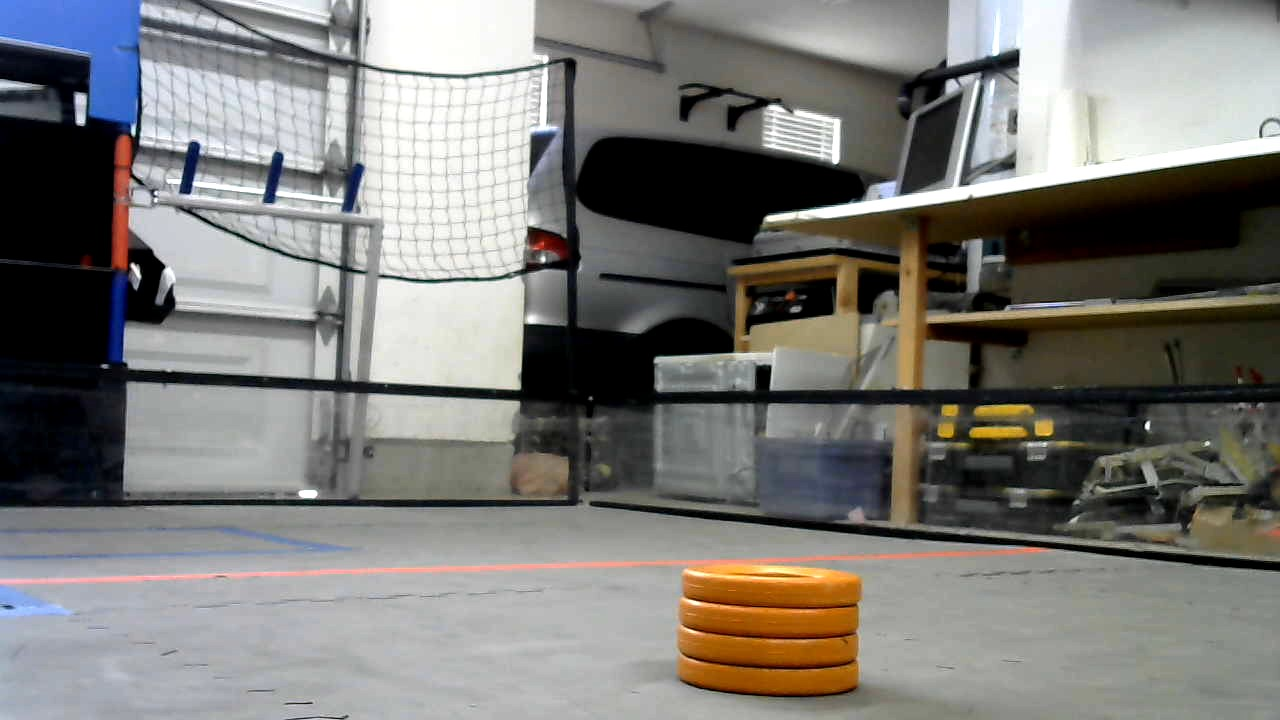FourStack: (676, 562, 863, 694)
